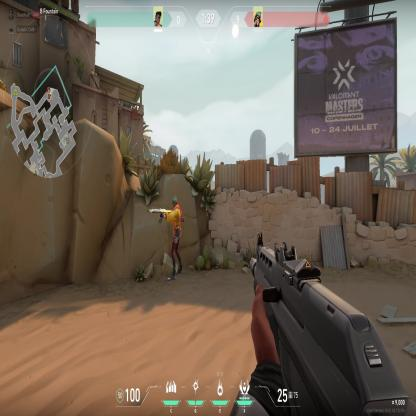enemy: (159, 192, 185, 282)
